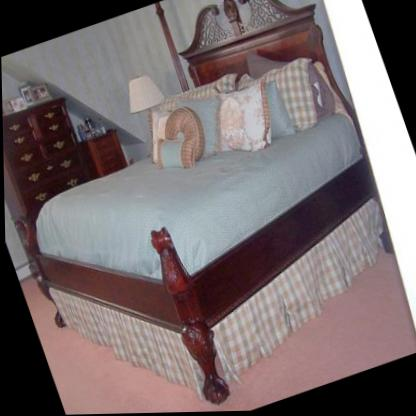Bed: (34, 0, 387, 406)
